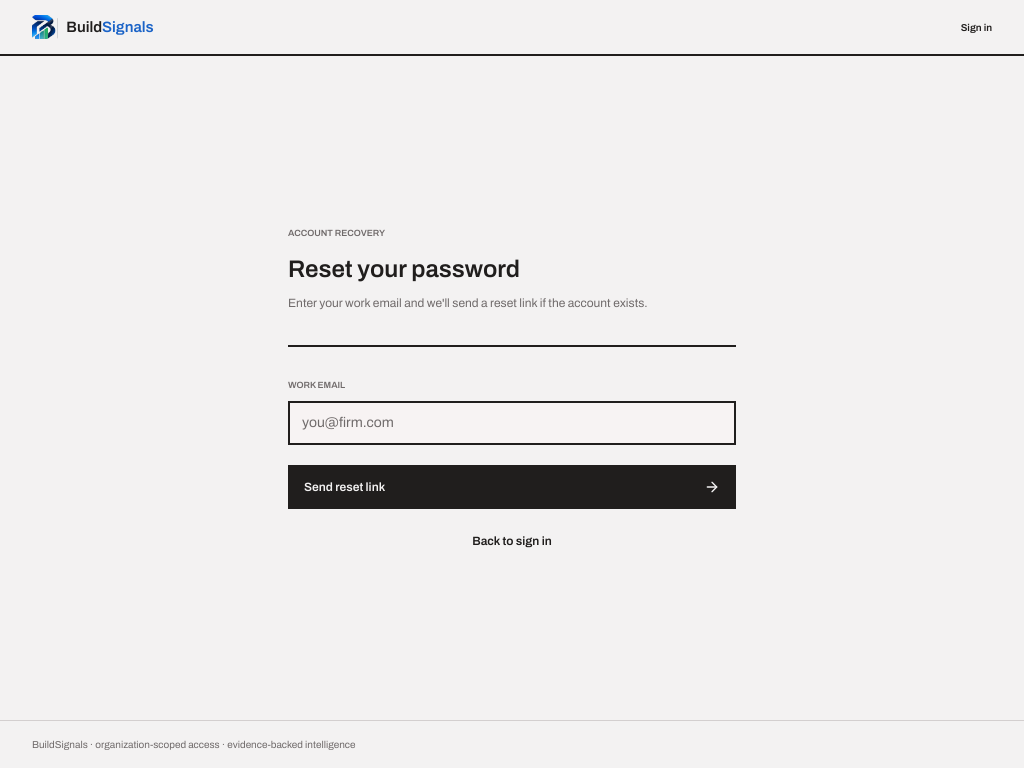
Test: <ForgotPassword> › submits the email and shows the generic success message
Type "alice@example.com" into the field labelled "Work email" at point(512, 423), box [288,401,736,445]
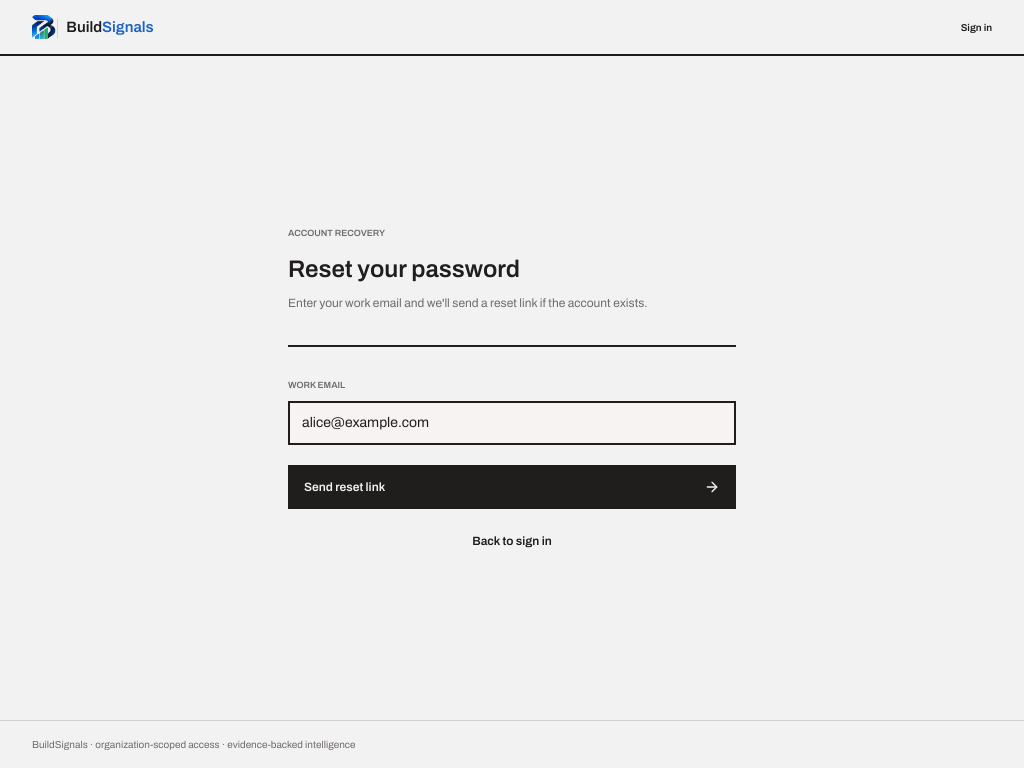
Click the button "Send reset link" at point(345, 487), box [288,465,736,509]
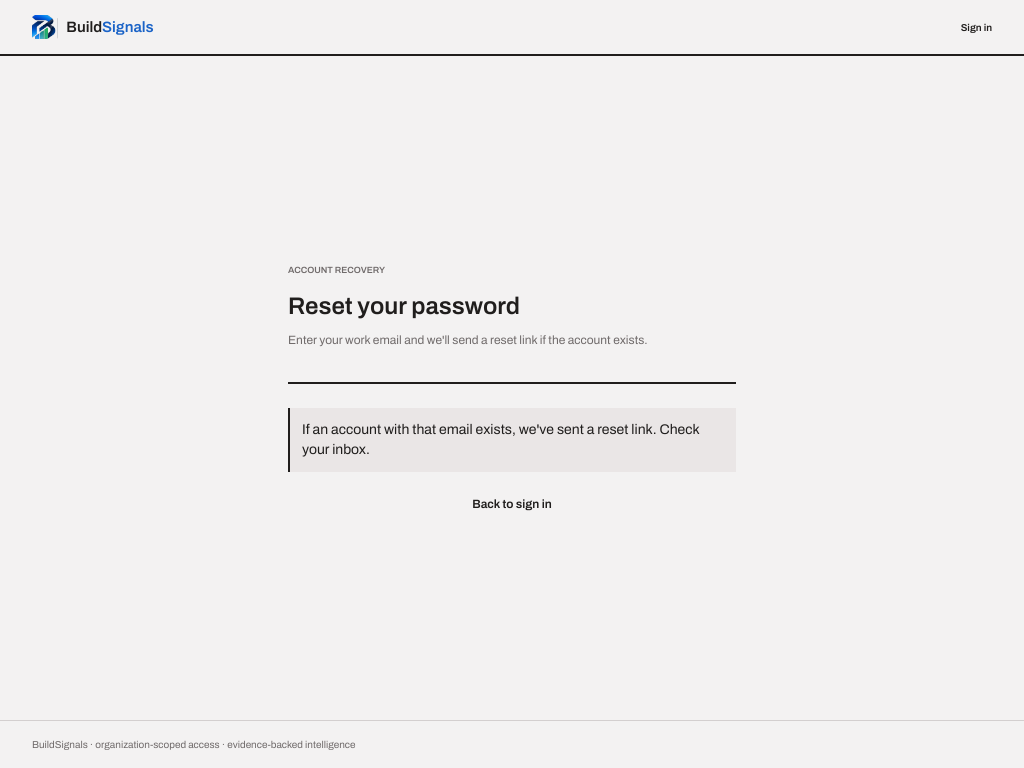
Expected: the text "If an account with that email exists" is shown, [302,422,700,457]
